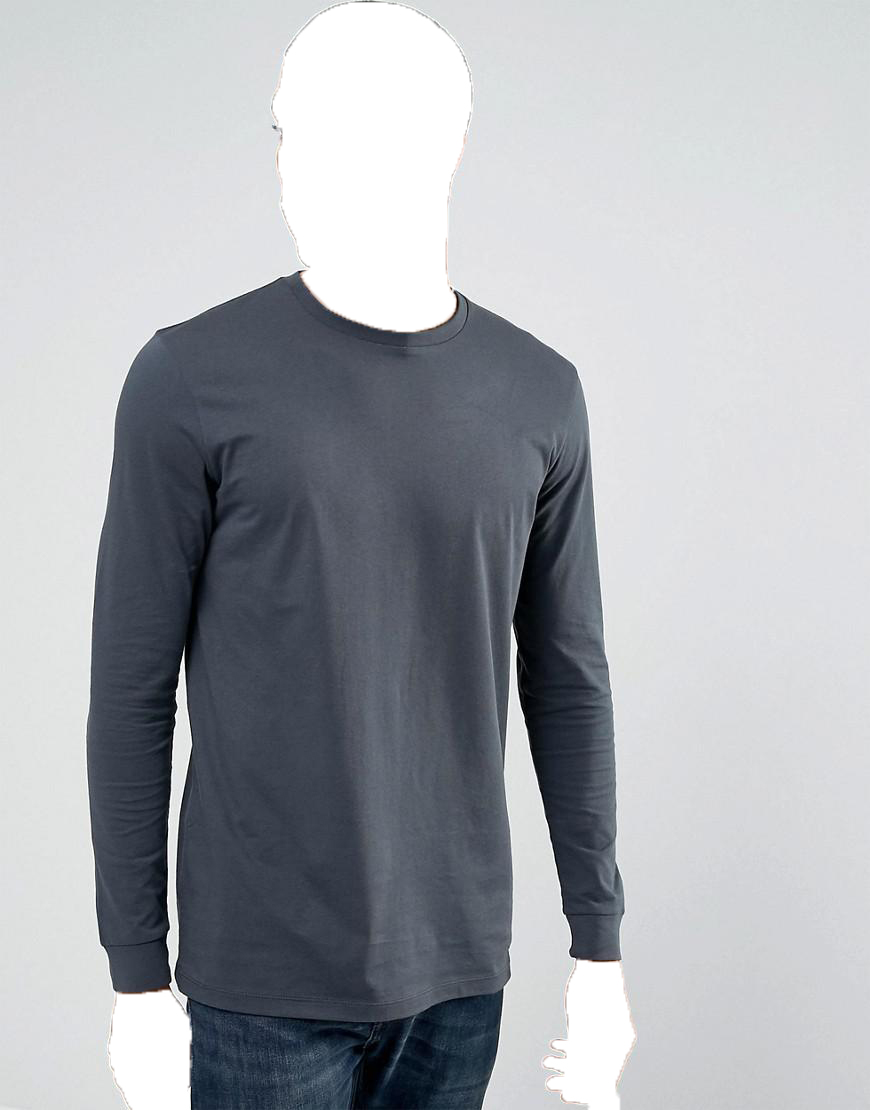teeshirt: (73, 274, 646, 1015)
